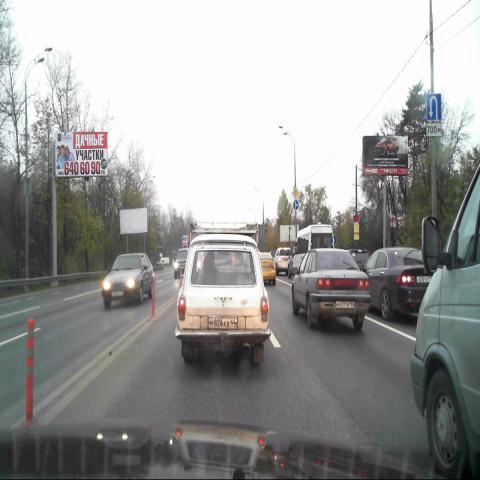6_3_1: (426, 93, 442, 121)
